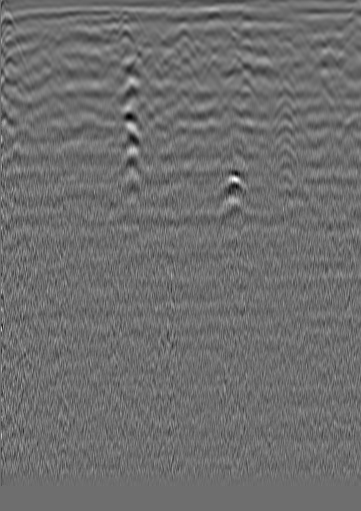가스: (209, 164, 257, 200)
상수: (308, 22, 334, 55)
오수: (0, 11, 22, 38)
우수: (168, 22, 204, 51)
